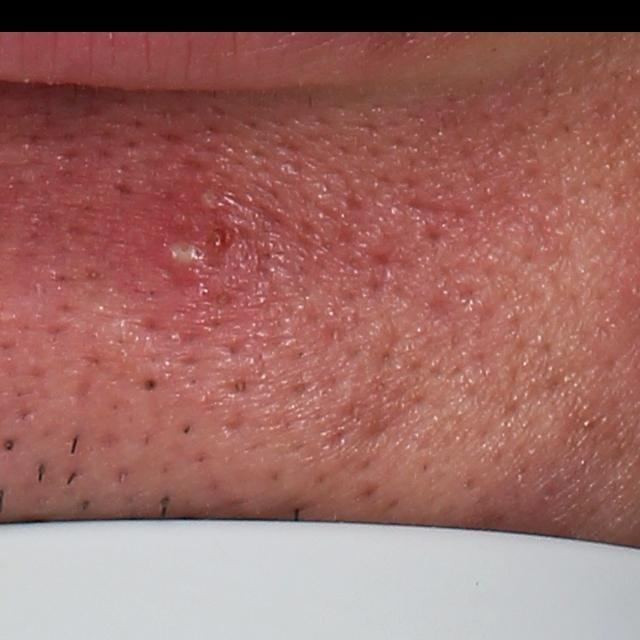pustule: (156, 227, 219, 288), (197, 182, 225, 214)
